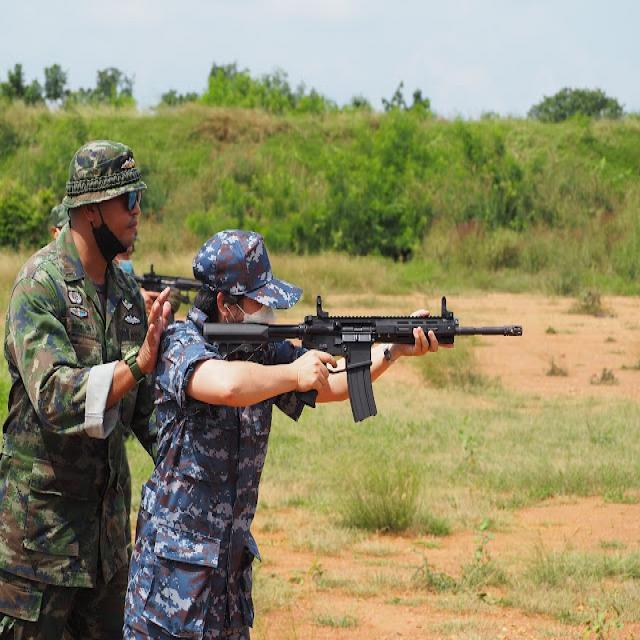m16: (186, 284, 565, 484)
